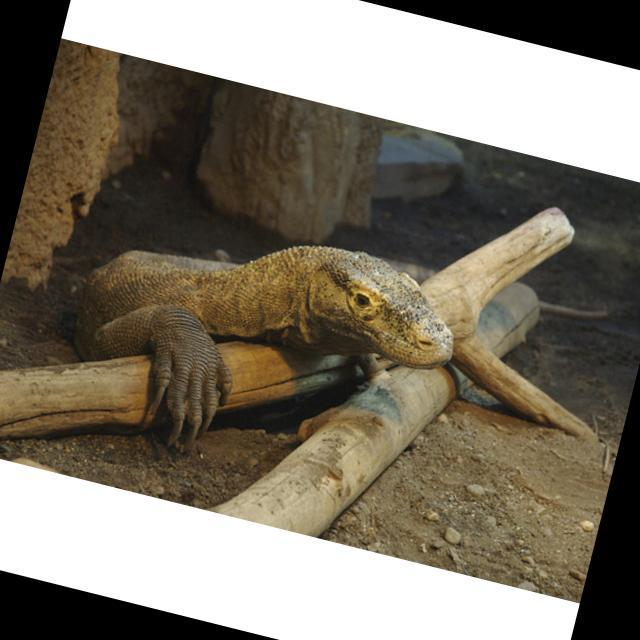KomodoDragon: (43, 181, 476, 512)
